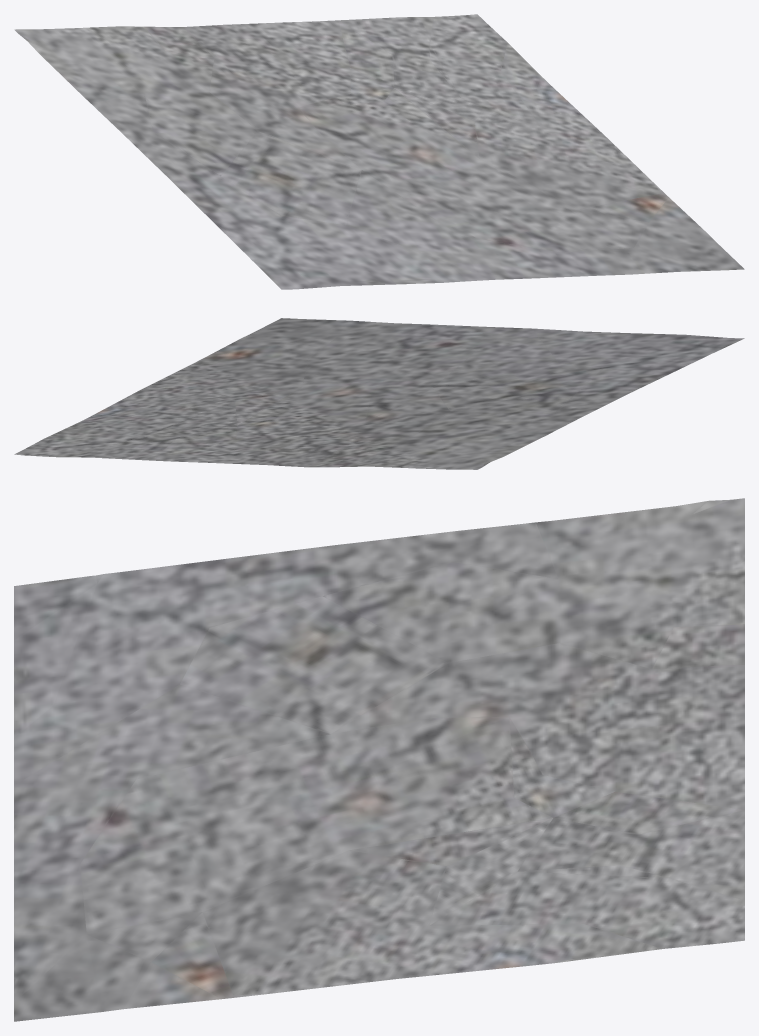
3 renders of one model, top to bottom at view 1: azimuth 30°, elevation 25°; view 2: azimuth 150°, elevation 25°; view 3: azimuth 270°, elevation 25°, orthographic. The views are drawn at different scales.
Bounding box in the file's own units: 1.67 × 0.5427 × 1.67.
Materials: 3 (3 with a texture image).
